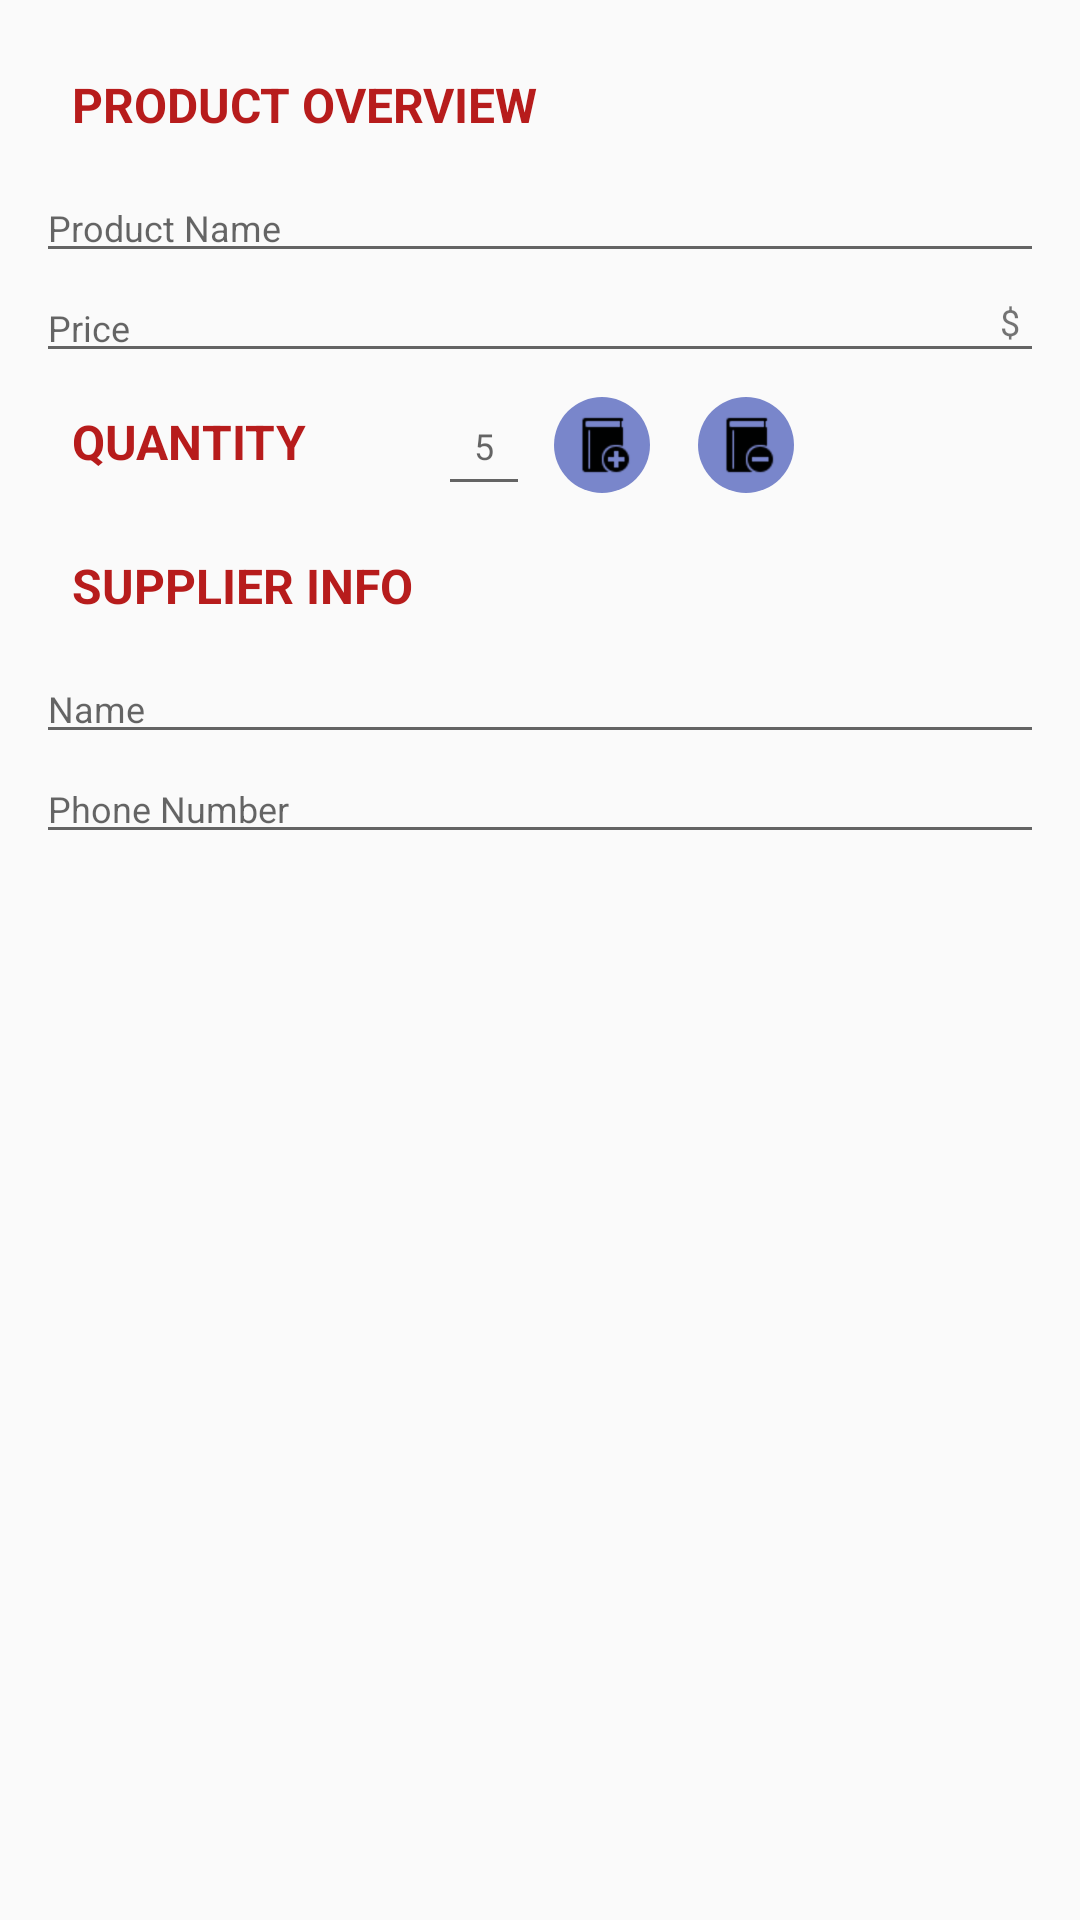

Point at icon controls on the screen. Image size 1080x1920, points as point (x, y).
increase: point (602, 445)
minus: point (746, 445)
